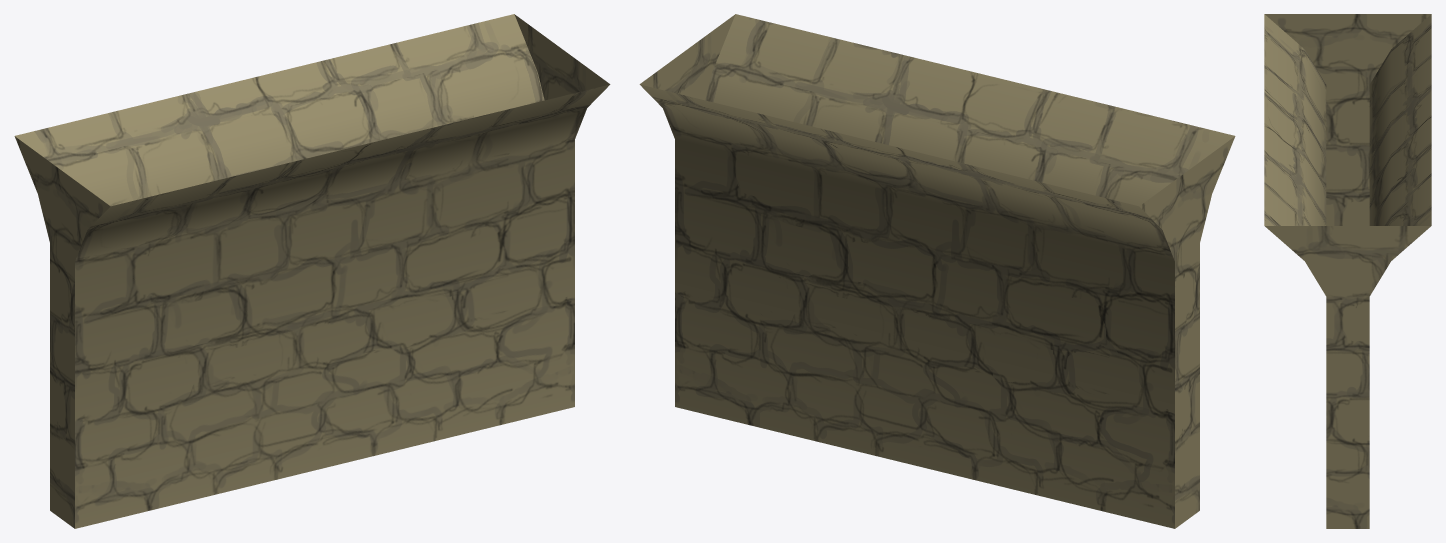
File: WallUpperConnector.fbx
The picture shows the model from 3 angles, left to right: view 1: azimuth 30°, elevation 25°; view 2: azimuth 150°, elevation 25°; view 3: azimuth 270°, elevation 25°; orthographic projection. The views are drawn at different scales.
Parts seen in each view (by area): view 1: WallUpperConnector; view 2: WallUpperConnector; view 3: WallUpperConnector.
Part boxes in pixels (x1=…): WallUpperConnector: x1=14, y1=14, x2=610, y2=528; WallUpperConnector: x1=639, y1=14, x2=1235, y2=528; WallUpperConnector: x1=1264, y1=14, x2=1431, y2=528.
Bounding box in the file's own units: 300 × 200 × 100.
